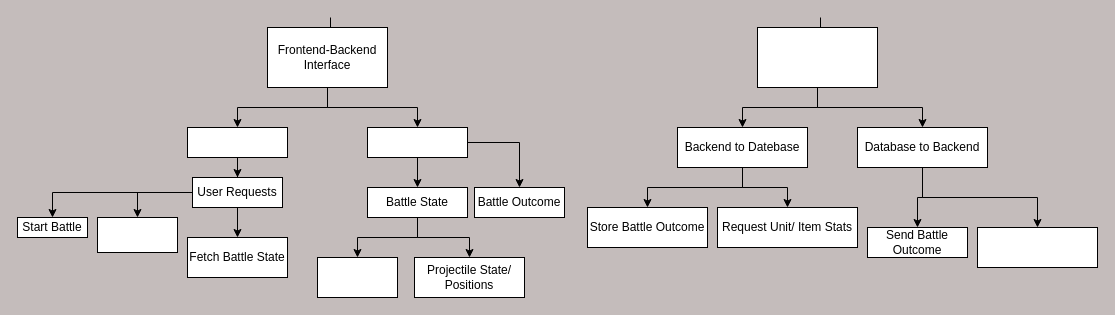
Image size: 1115x315. Some labels were removed from this diagram. The shapes that lost their labels are listed below. From the top down, each one's centre as x and y in pixels, then its label:
At (x=817, y=57): "Backend-Database Interface".
At (x=237, y=142): "Frontend to Backend".
At (x=417, y=142): "Backend to Frontend".
At (x=137, y=234): "Create Board".
At (x=1037, y=247): "Send Unit/ Item Stats".
At (x=357, y=277): "Unit State/ Positions".
